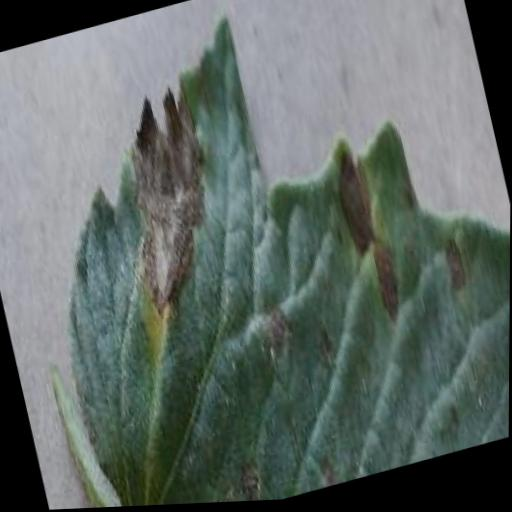Early Blight: (0, 0, 481, 469)
